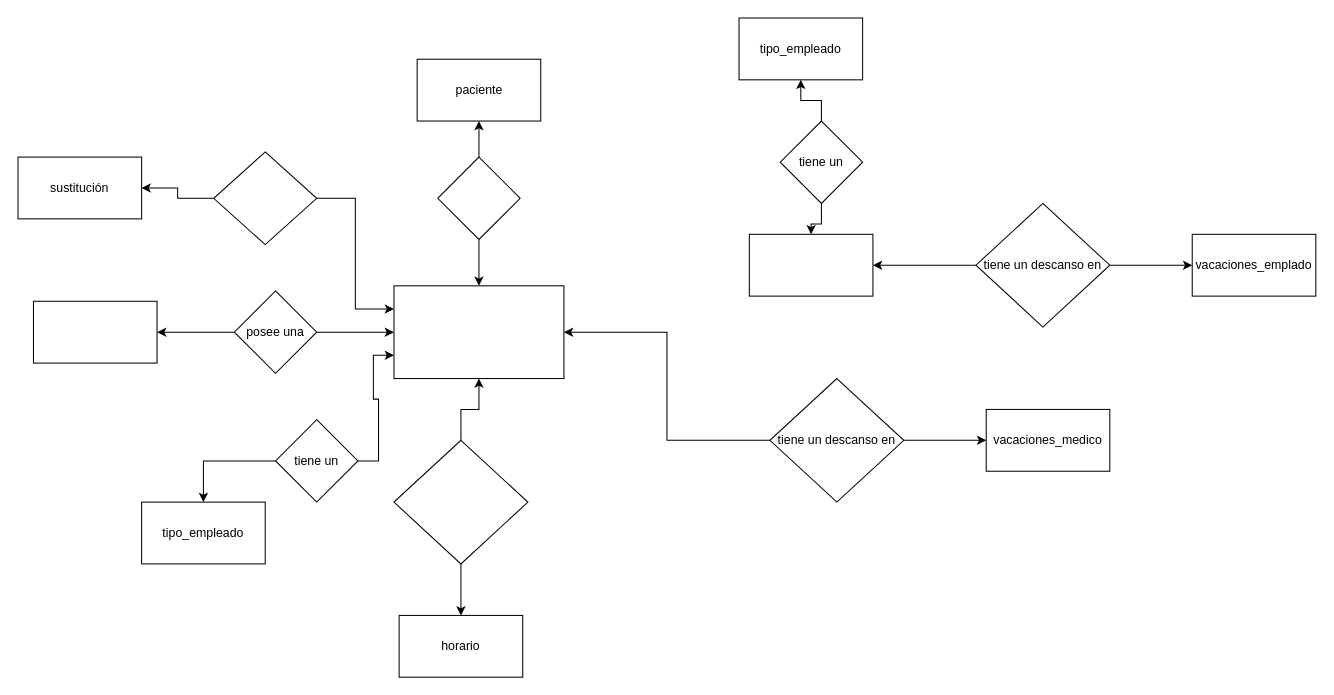
The diagram is 1334 pixels wide and 695 high, and some of its shapes have lost their labels. The shapes that lost their labels are listed below. From the top down, each one's centre as x and y in pixels, then its label:
At [265,198]: "puede ser sustituido".
At [478,197]: "atiende".
At [810,264]: "empleado".
At [94,331]: "especialidad".
At [478,332]: "medico".
At [460,501]: "tiene atencion segun un".
